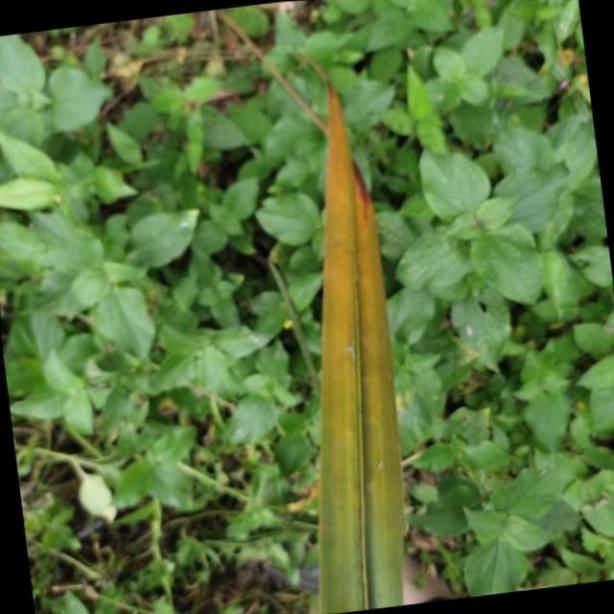Megnesium: (308, 55, 407, 614)
